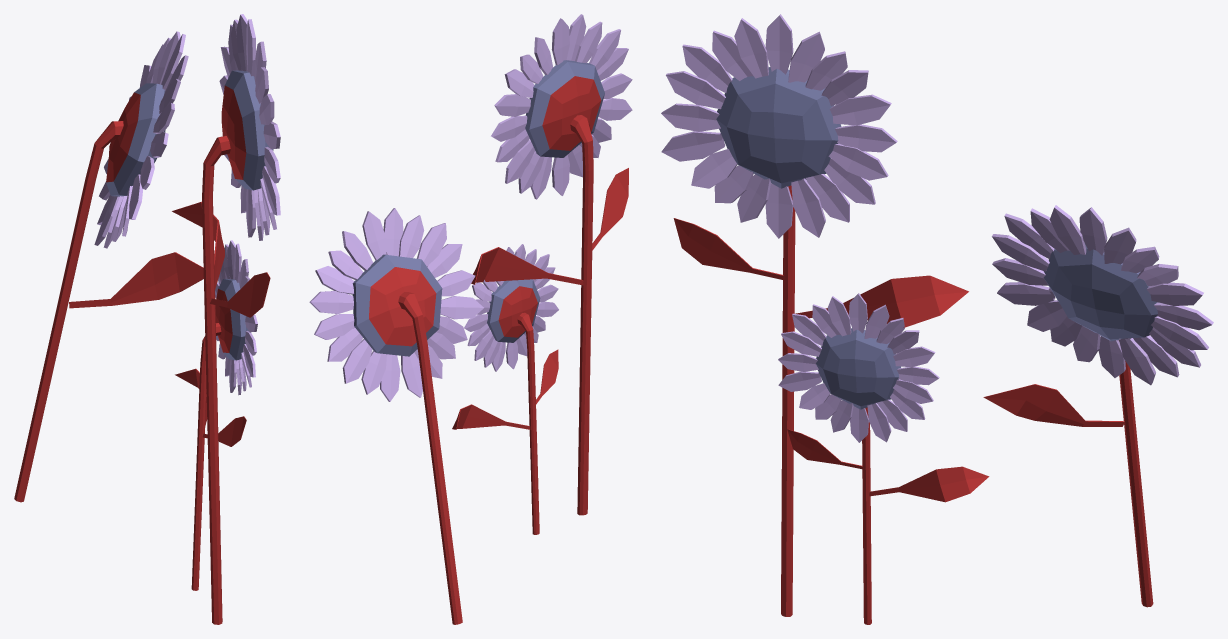
The model's file is Backyard_Sunflowers.fbx.
3 renders of one model, left to right at view 1: azimuth 30°, elevation 25°; view 2: azimuth 150°, elevation 25°; view 3: azimuth 270°, elevation 25°, orthographic. The views are drawn at different scales.
Visible parts, largest first — view 1: Backyard_Sunflowers; view 2: Backyard_Sunflowers; view 3: Backyard_Sunflowers.
Boxes of the visible parts, left/top/right/bottom form: Backyard_Sunflowers: left=14, top=14, right=280, bottom=624; Backyard_Sunflowers: left=309, top=14, right=632, bottom=624; Backyard_Sunflowers: left=661, top=14, right=1213, bottom=624.
Size of the model in its own units: 51.63 by 179 by 146.
